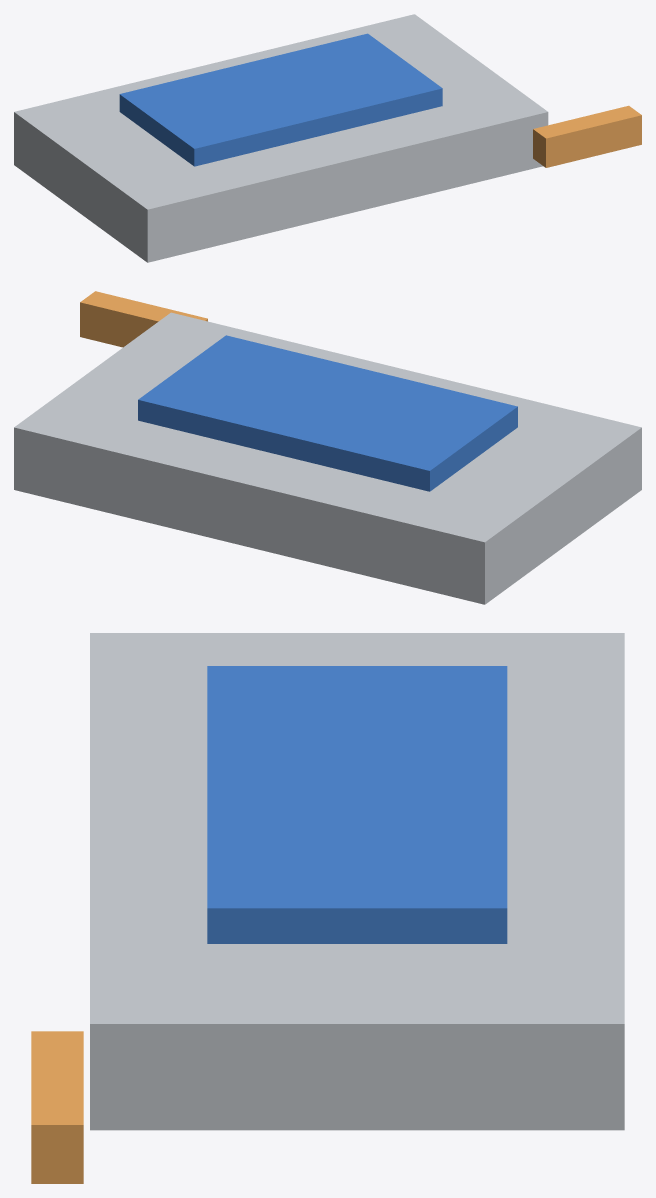
The model's file is ssd.glb.
3 views of the same model, one above another, from view 1: azimuth 30°, elevation 25°; view 2: azimuth 150°, elevation 25°; view 3: azimuth 270°, elevation 25° (orthographic). The views are drawn at different scales.
Visible parts, largest first — view 1: ssd body, ssd label, ssd connector; view 2: ssd body, ssd label, ssd connector; view 3: ssd body, ssd label, ssd connector.
Part boxes in pixels (left/top/right/bottom): ssd body: left=14, top=14, right=548, bottom=262; ssd label: left=119, top=33, right=442, bottom=166; ssd connector: left=533, top=105, right=641, bottom=167; ssd body: left=14, top=312, right=641, bottom=604; ssd label: left=138, top=335, right=517, bottom=491; ssd connector: left=80, top=291, right=207, bottom=347; ssd body: left=90, top=633, right=624, bottom=1130; ssd label: left=207, top=666, right=507, bottom=943; ssd connector: left=31, top=1031, right=83, bottom=1183.
Size of the model in its own units: 1.7 by 0.25 by 0.91.
